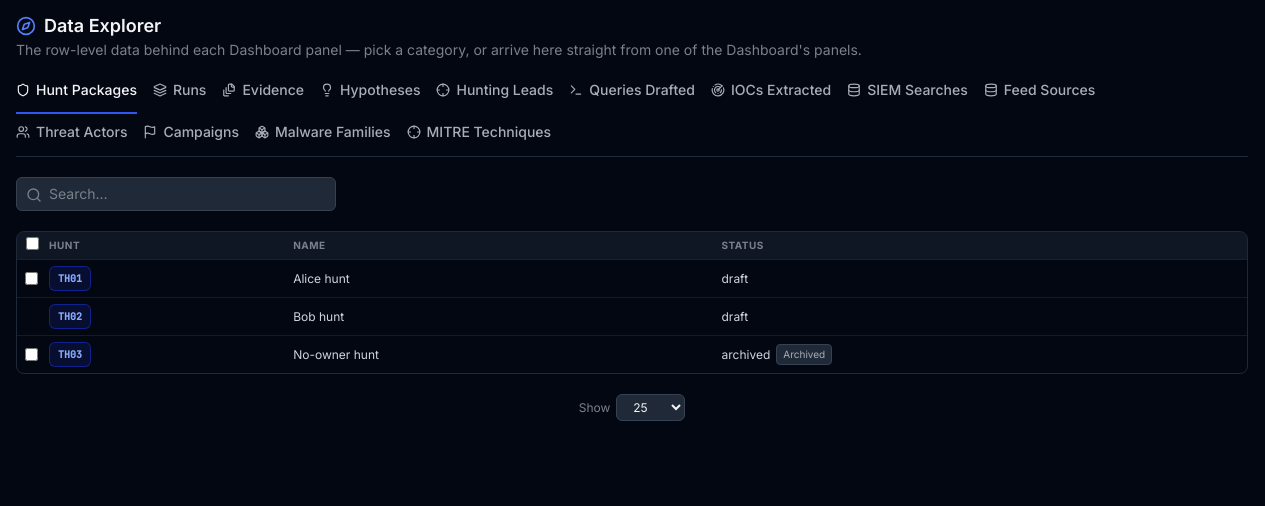
DataExplorer — bulk archive/unarchive/delete (issue-local-044) › bulk-archives the selected non-archived packages via archivePackage
Expected: the text "Alice hunt" is shown, x1=285 y1=260 x2=714 y2=298
What coordinates should you click on to do the following:
click the checkbox named "Select Alice hunt"
I would click on:
 (32, 278)
Its box is x1=25 y1=272 x2=38 y2=284.
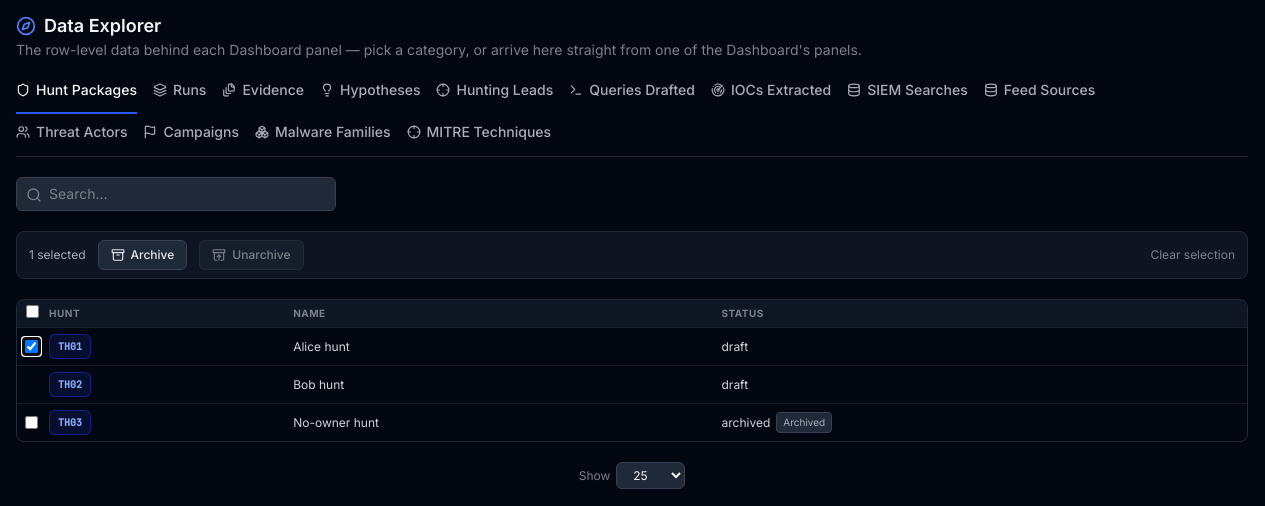
What coordinates should you click on to do the following:
click the button "Archive"
I would click on:
 (142, 255)
Its box is x1=98 y1=240 x2=187 y2=270.
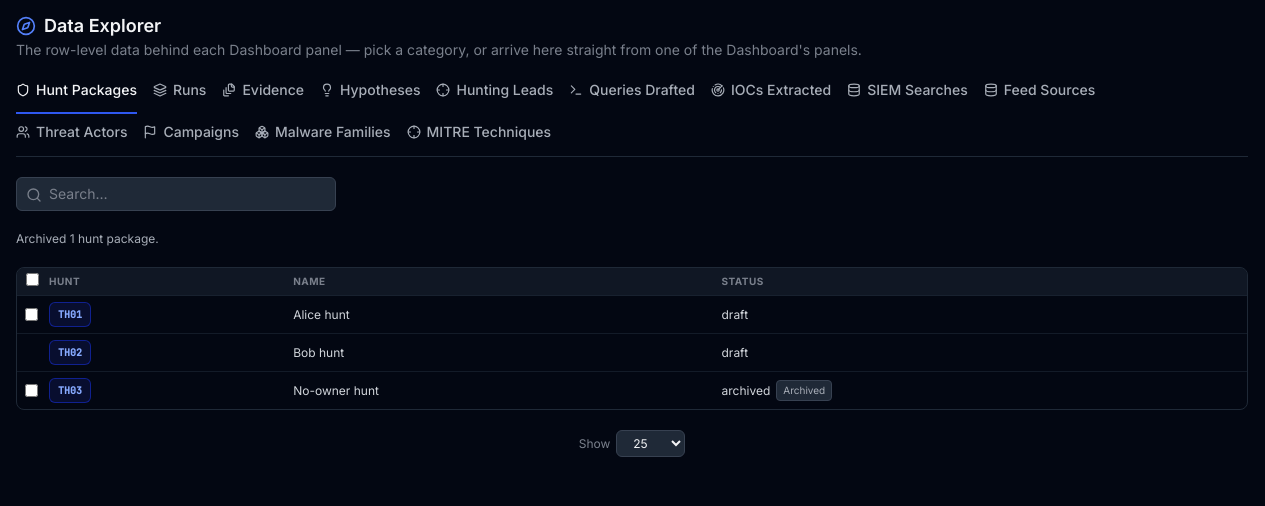
Now the text "Archived 1 hunt package." is shown, box x1=16 y1=231 x2=159 y2=246
